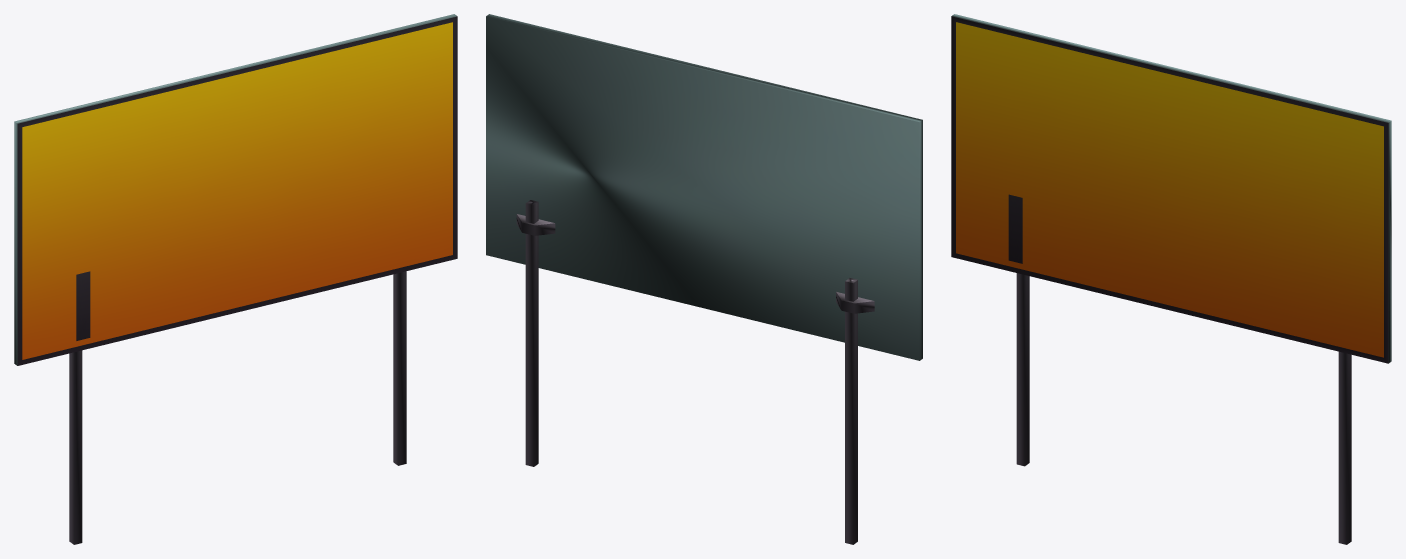
File: Streetsign_outdoor.fbx
3 views of the same model, side by side, from view 1: azimuth 30°, elevation 25°; view 2: azimuth 150°, elevation 25°; view 3: azimuth 330°, elevation 25° (orthographic).
Parts seen in each view (by area): view 1: Streetsign_2I.002; view 2: Streetsign_2I.002; view 3: Streetsign_2I.002.
Part boxes in pixels (left/top/right/bottom): Streetsign_2I.002: left=14, top=14, right=457, bottom=544; Streetsign_2I.002: left=486, top=14, right=922, bottom=544; Streetsign_2I.002: left=951, top=14, right=1391, bottom=544.
Size of the model in its own units: 468 by 447 by 20.66.
